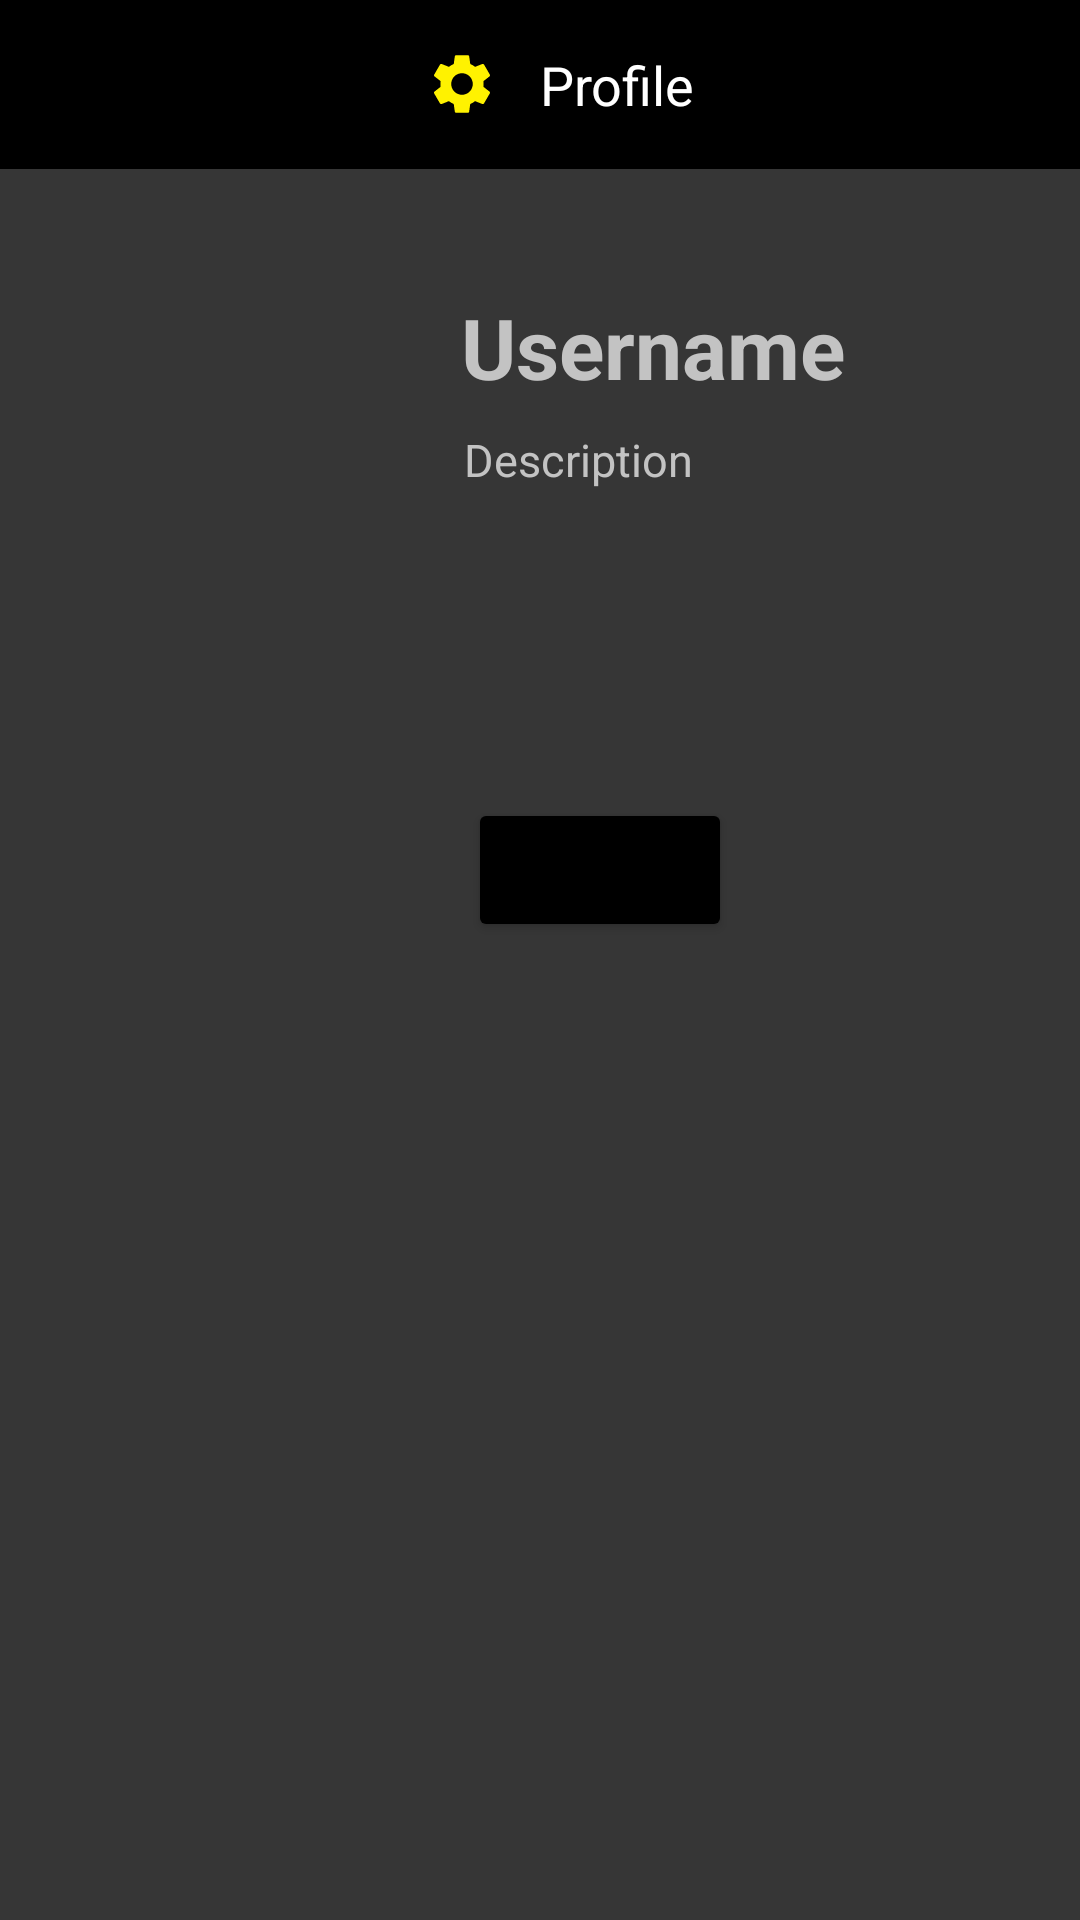

Named icons in this screenshot (1080x1920) and their centers, [x,y]:
settings: [462,84]
